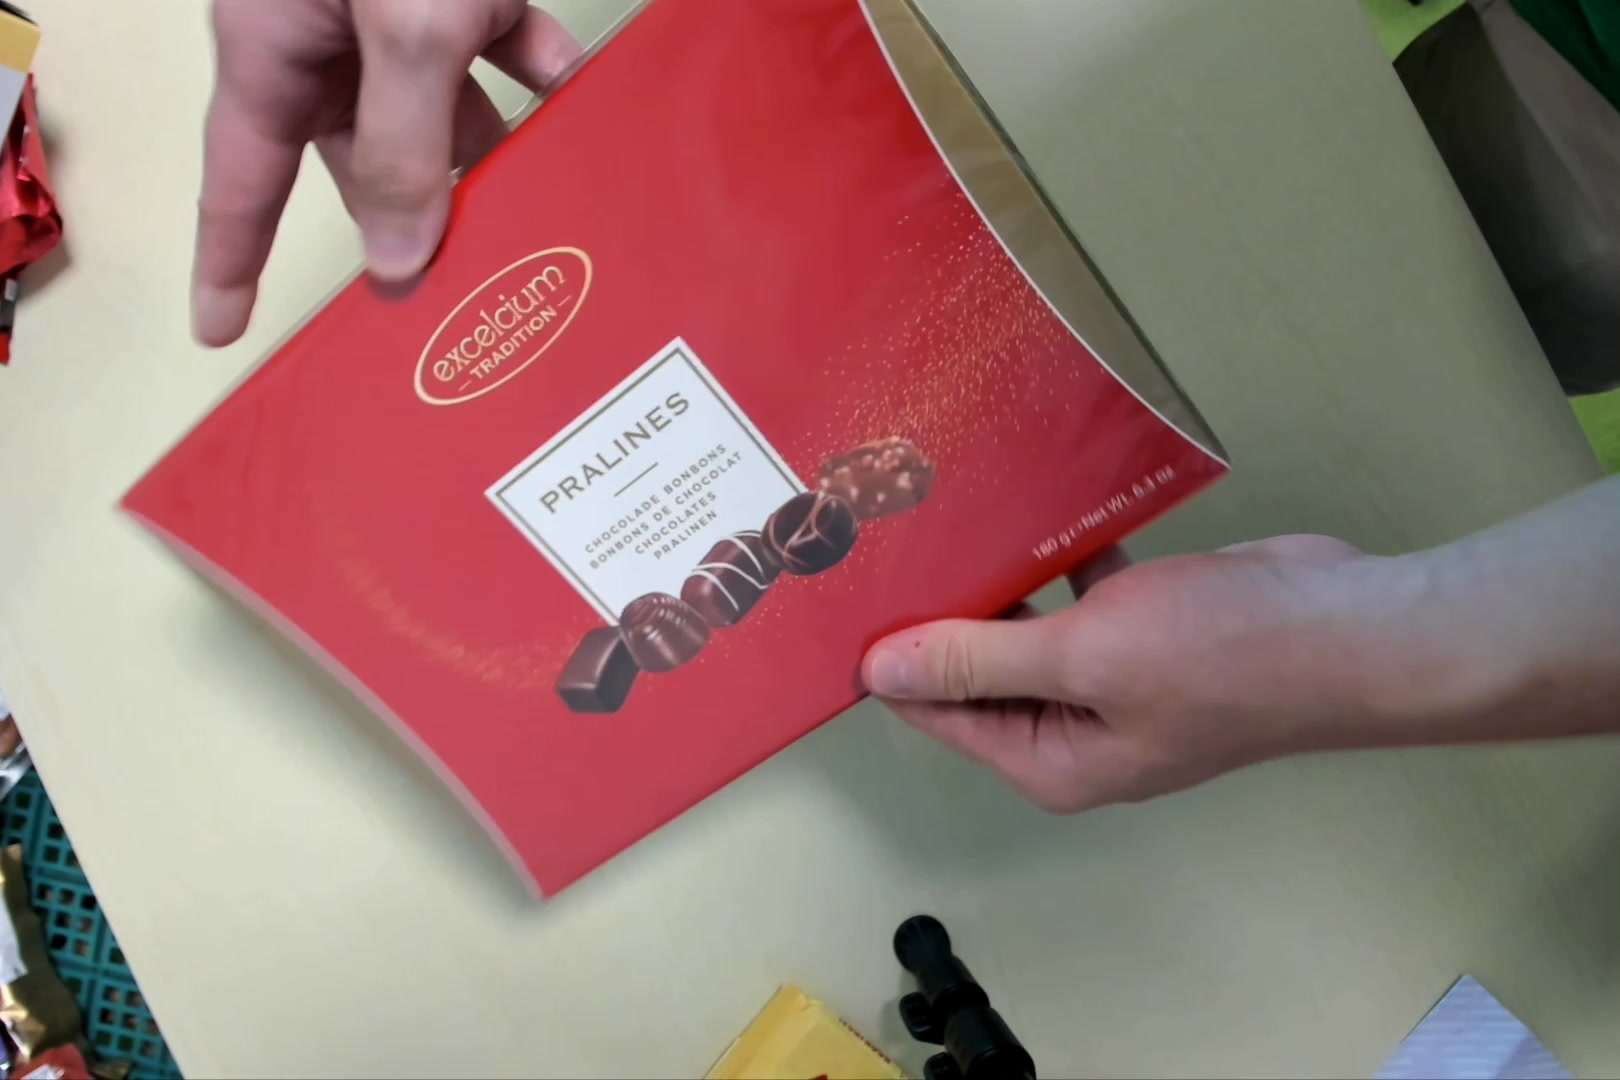SweetsChocolatesOthers_100-199g_NonHalal_NonHealthy: (116, 6, 1229, 893)
